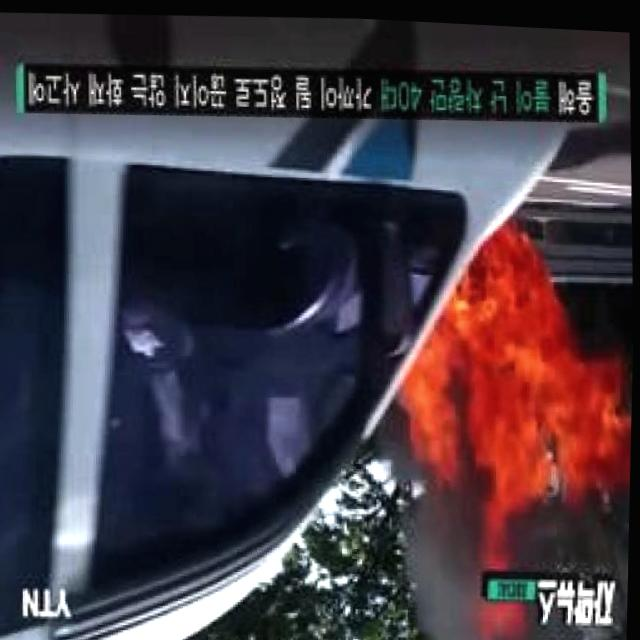Fire: (393, 229, 635, 505)
